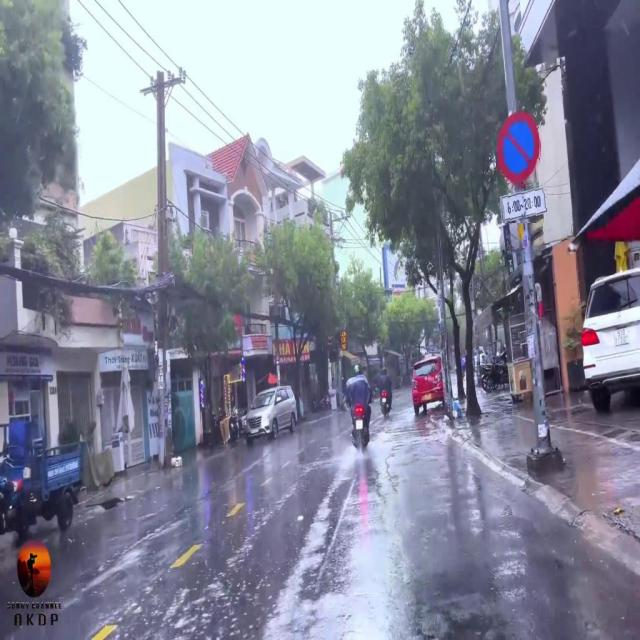cam_do_xe: (496, 110, 541, 186)
khac: (500, 182, 547, 223)
